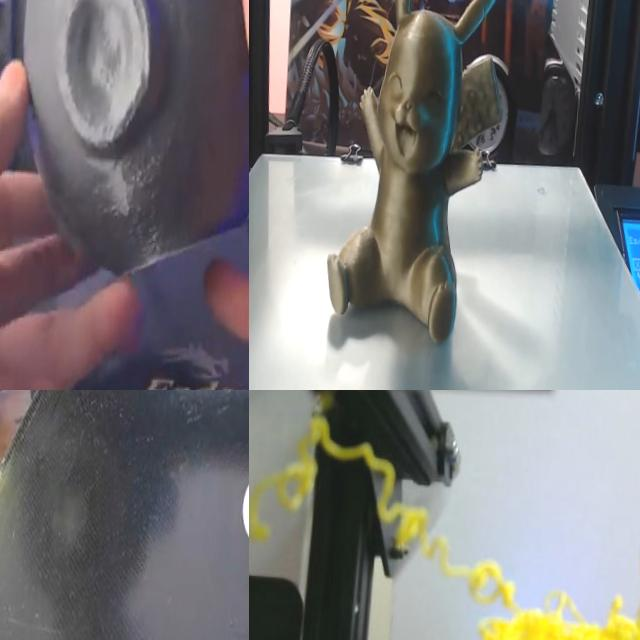spaghetti: (249, 393, 640, 640)
